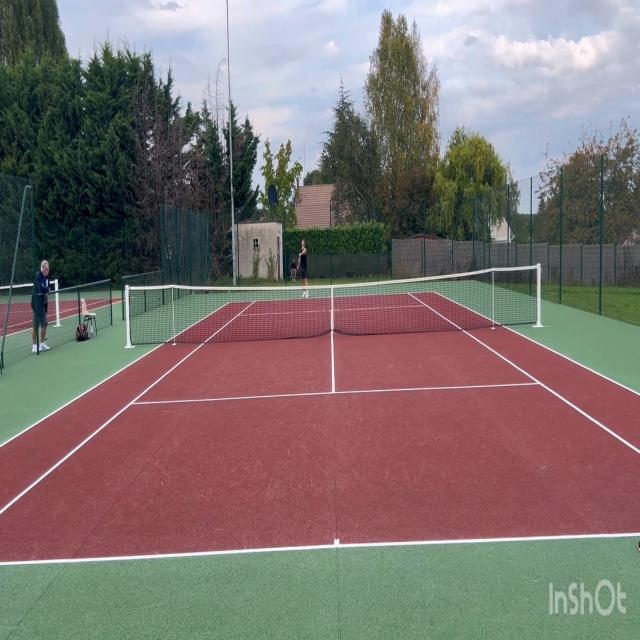ball: (228, 290, 230, 293), (193, 292, 194, 295)
